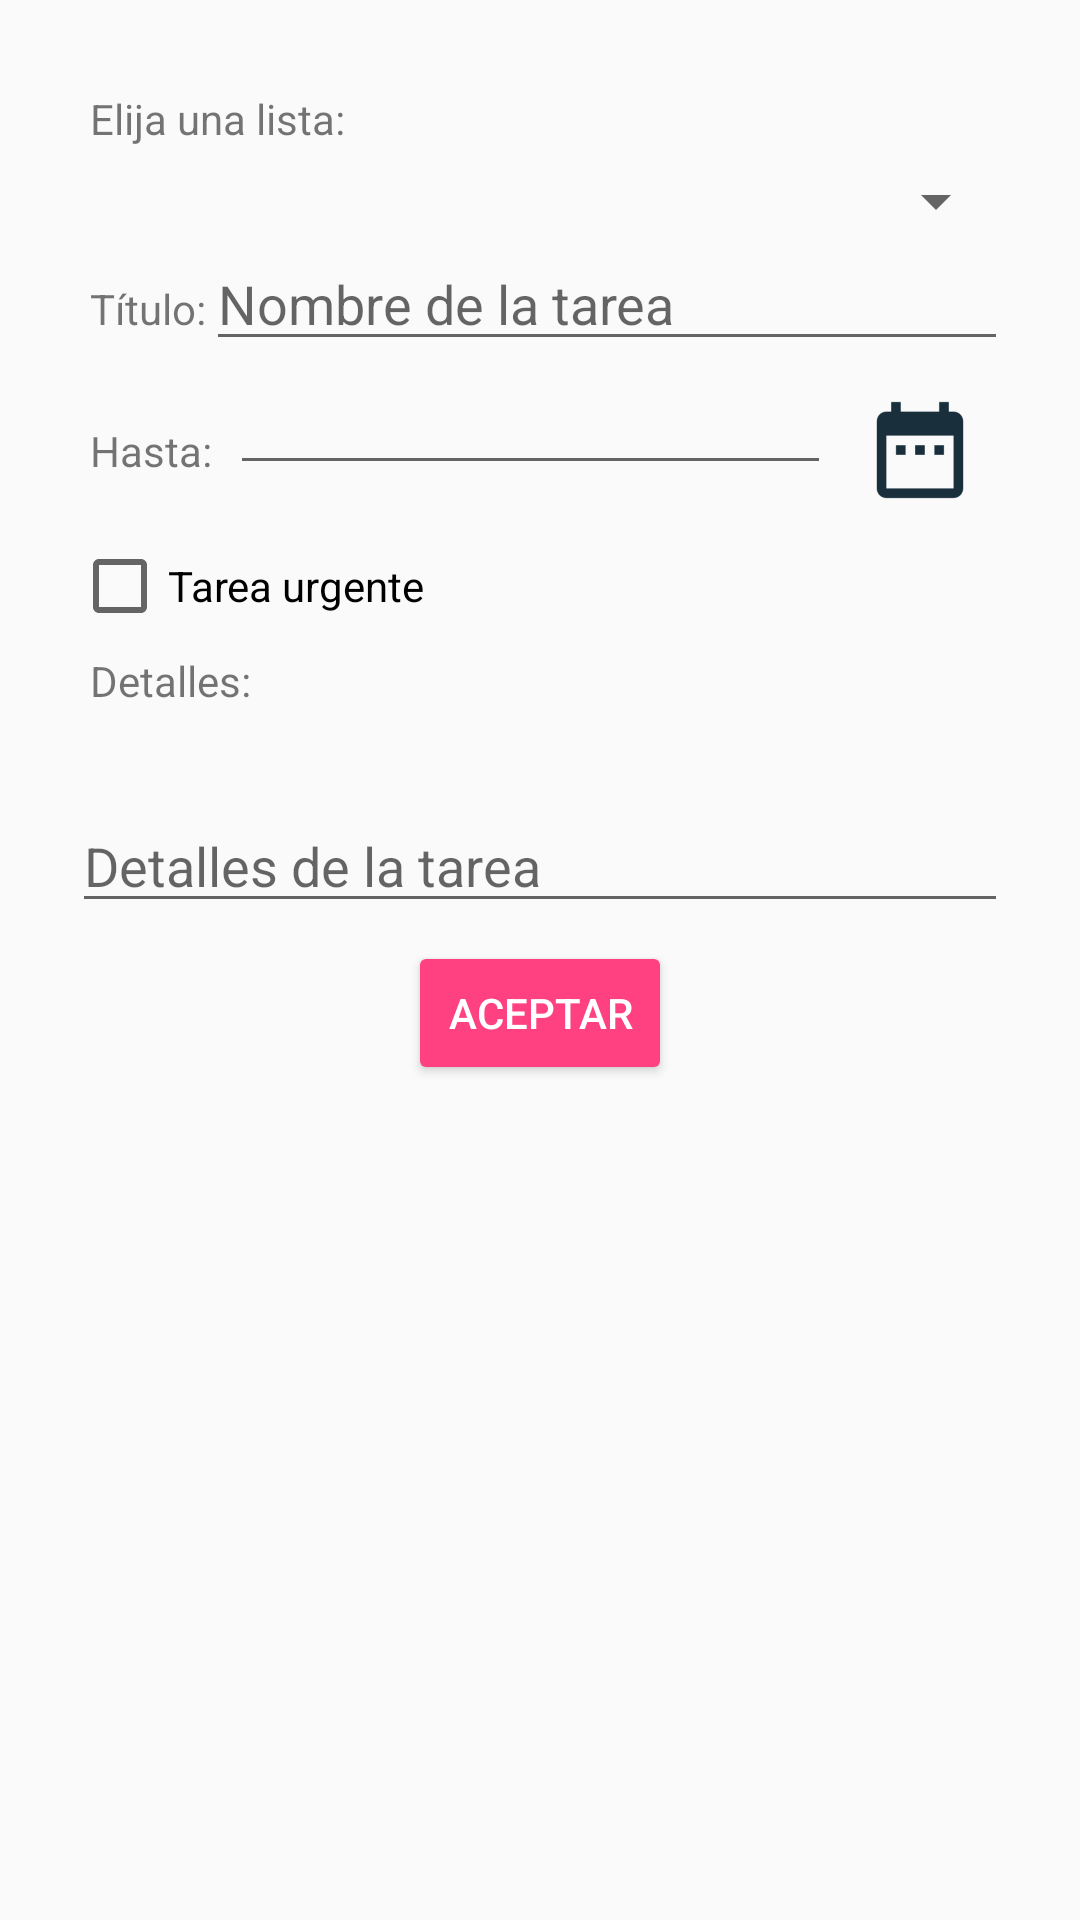

Icons on this 1080×1920 Android screen, each with the point to tap as point (x, y):
date: point (920, 450)
